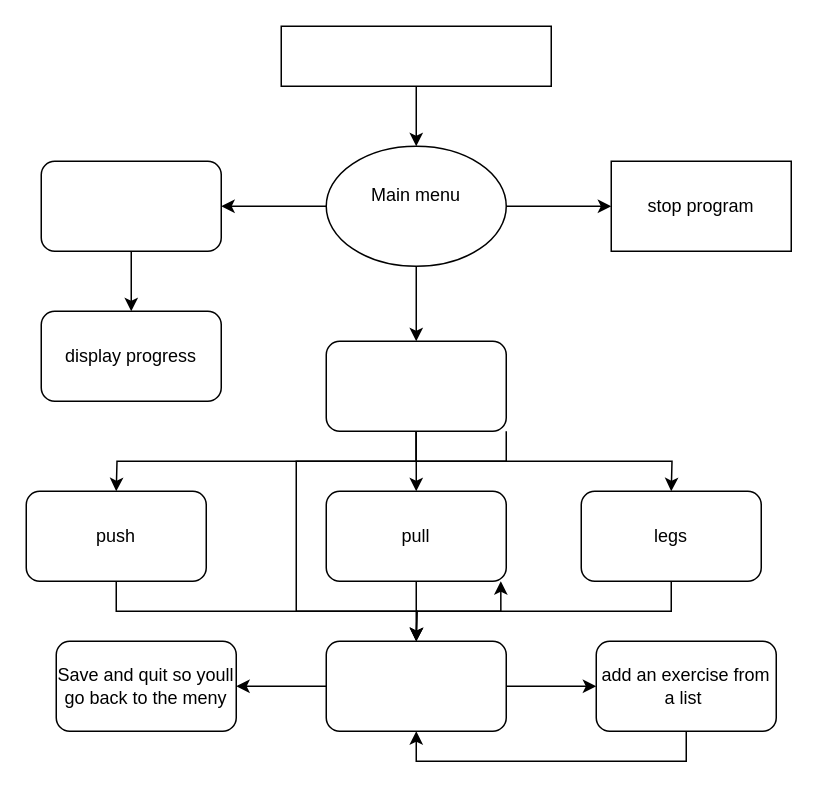
The diagram is 818 pixels wide and 800 high, and some of its shapes have lost their labels. The shapes that lost their labels are listed below. From the top down, each one's centre as x and y in pixels, then its label:
At point (415, 55): "Start".
At point (130, 205): "adding up totals for the day".
At point (415, 385): "choose type of day (push, pull, legs)".
At point (415, 685): "display exercises for the day - have an option to add exercise or save workout".
